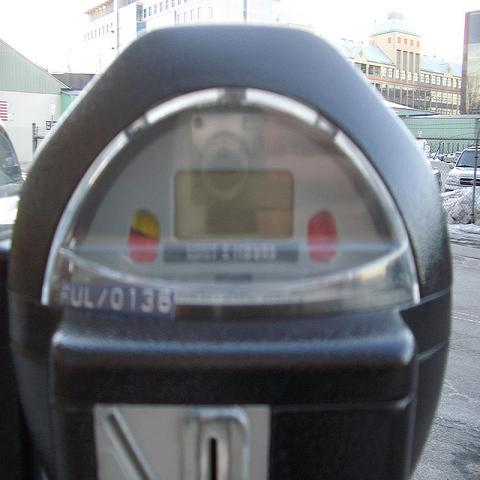car: (0, 118, 25, 353), (444, 144, 479, 194)
